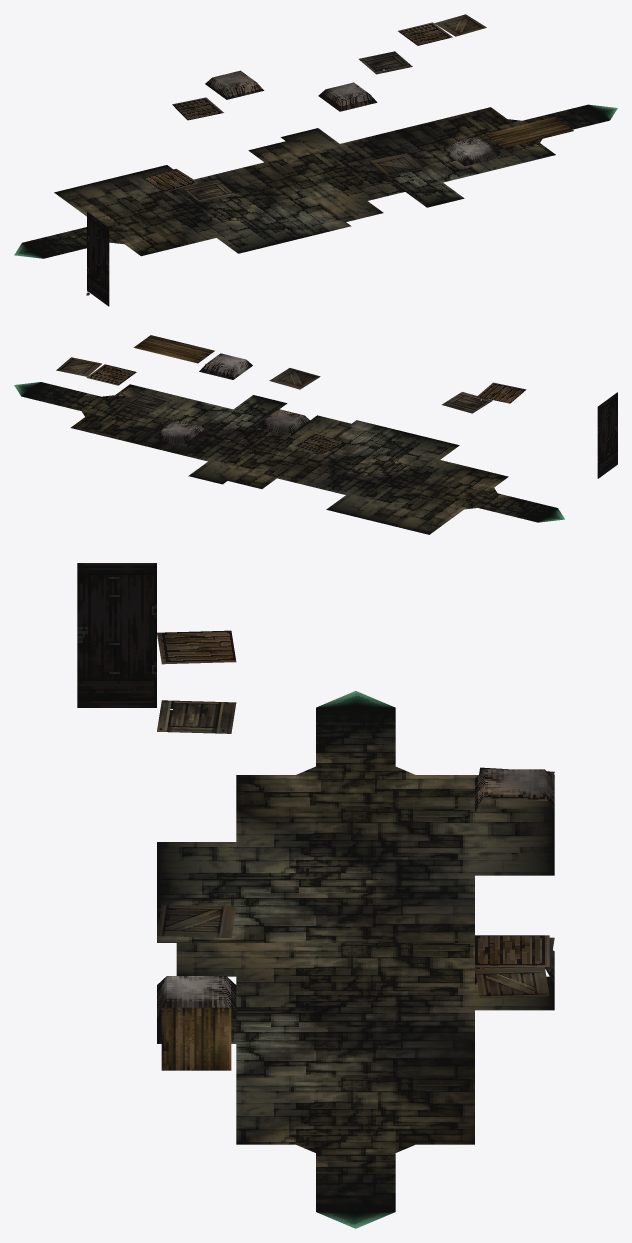
File: MAP109.gltf
3 views of the same model, one above another, from view 1: azimuth 30°, elevation 25°; view 2: azimuth 150°, elevation 25°; view 3: azimuth 270°, elevation 25° (orthographic). The views are drawn at different scales.
Bounding box in the file's own units: 205 × 27.2 × 76.8.
18 materials, 18 textured.
